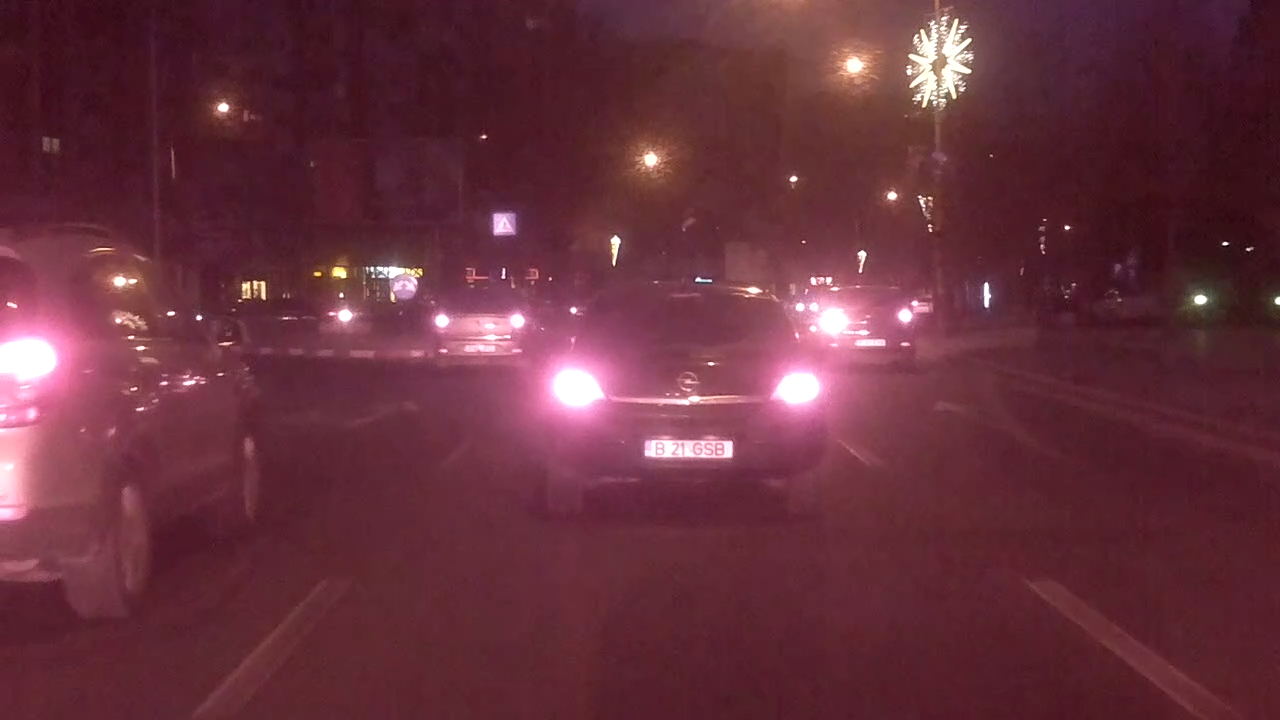license-plate: (638, 434, 737, 461)
